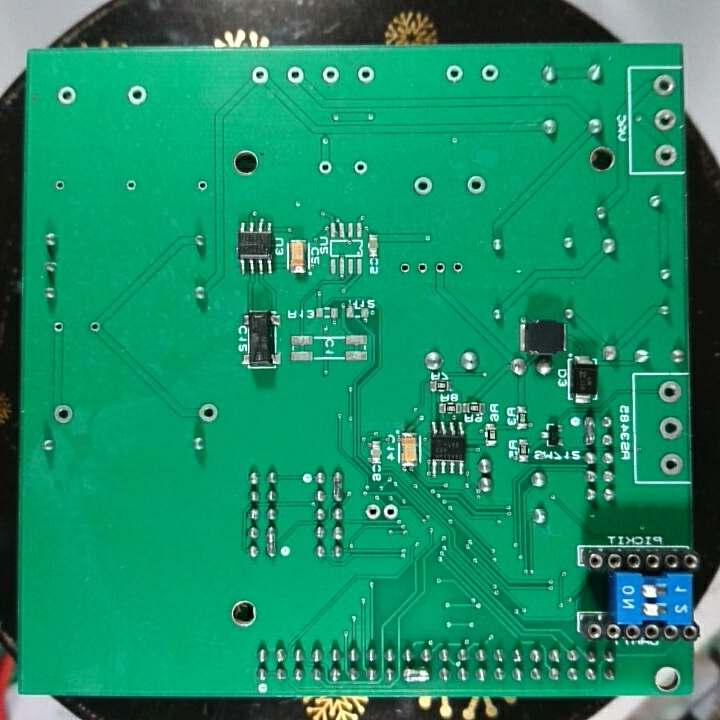F: (655, 376, 683, 407), (650, 105, 679, 134), (657, 414, 685, 444), (652, 141, 682, 169), (650, 71, 677, 100), (659, 449, 685, 477), (49, 401, 76, 427), (412, 172, 438, 198), (463, 173, 490, 198), (53, 83, 80, 107), (195, 401, 220, 425), (125, 83, 150, 107), (248, 64, 272, 88), (283, 64, 307, 88), (318, 63, 342, 87), (353, 63, 378, 86), (441, 62, 466, 85), (478, 61, 500, 84), (313, 157, 335, 179), (363, 500, 382, 524), (381, 500, 399, 522), (351, 157, 369, 179), (414, 259, 431, 279), (87, 317, 104, 336), (449, 258, 465, 278), (123, 176, 140, 194), (52, 177, 70, 194), (51, 318, 66, 337), (397, 259, 412, 278), (194, 176, 209, 194), (433, 260, 447, 278)
P: (328, 467, 348, 504), (399, 666, 432, 686), (581, 414, 599, 449), (263, 523, 279, 560)
